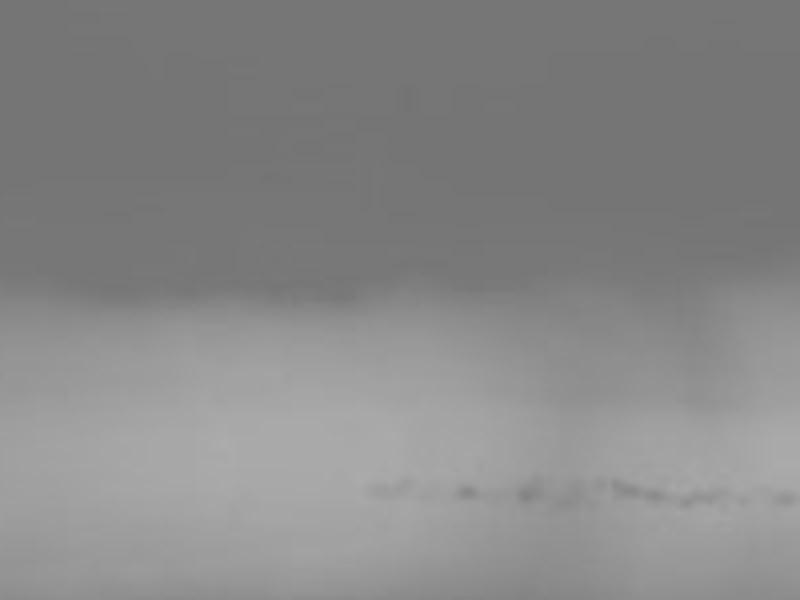defect: (370, 477, 414, 502), (684, 486, 723, 512), (613, 479, 642, 502), (644, 488, 673, 509), (515, 482, 546, 501), (450, 484, 480, 502), (769, 490, 800, 507), (733, 490, 756, 512)
